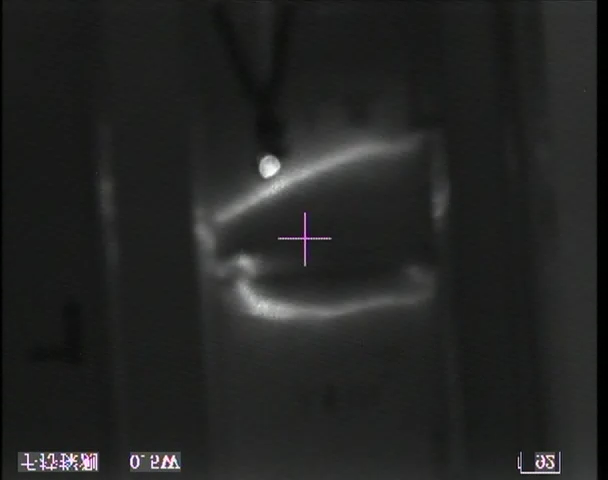my: (258, 153, 283, 180)
